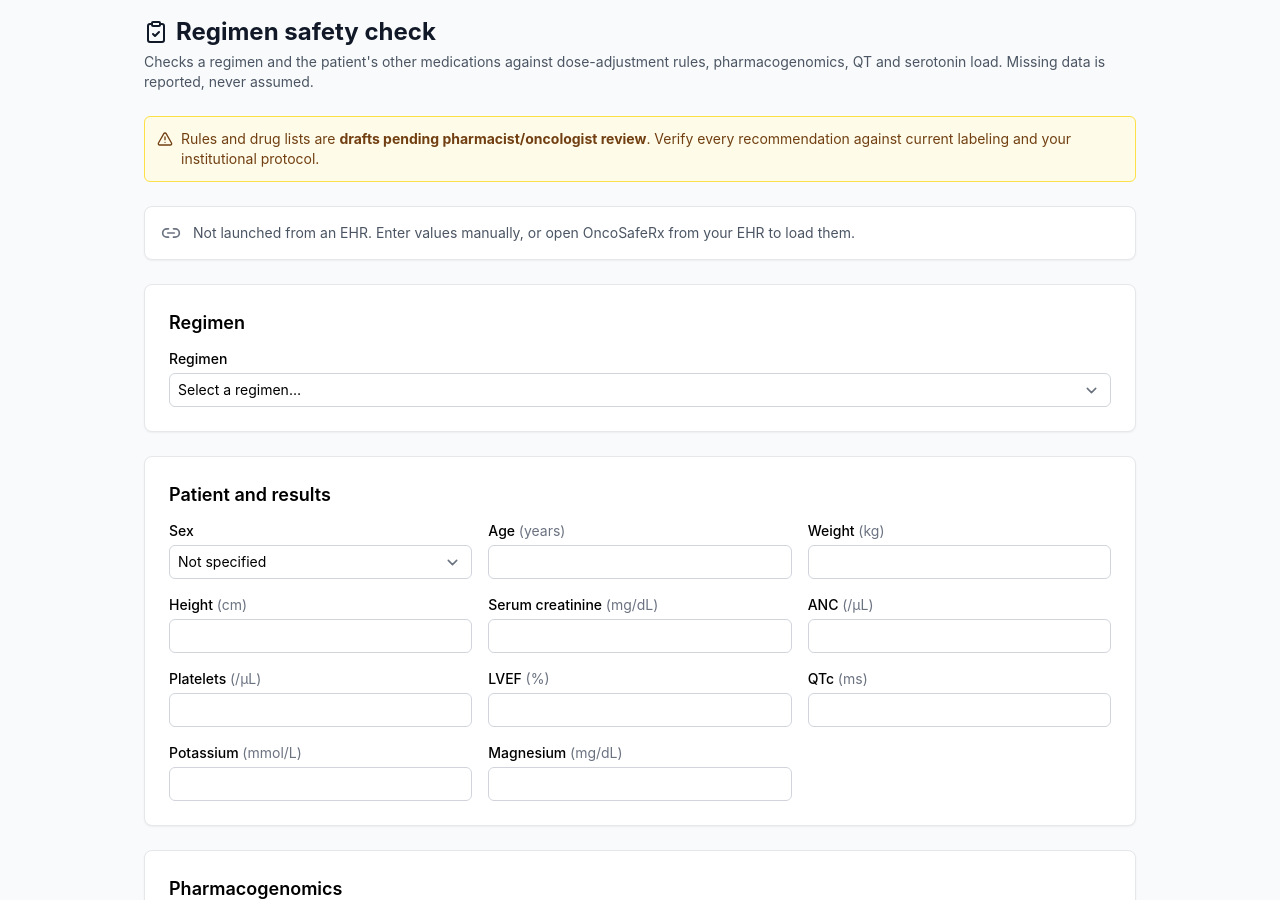
Test case: SafetyCheck page › override needs a reason; "other" needs a comment
Expected: the text "Not launched from an EHR" is shown, [193, 224, 855, 241]
Select "FOLFOX-6 — Colorectal cancer" in the dropdown labelled "Regimen" at coordinates (640, 390), box [169, 373, 1111, 407]
(page scrolled)
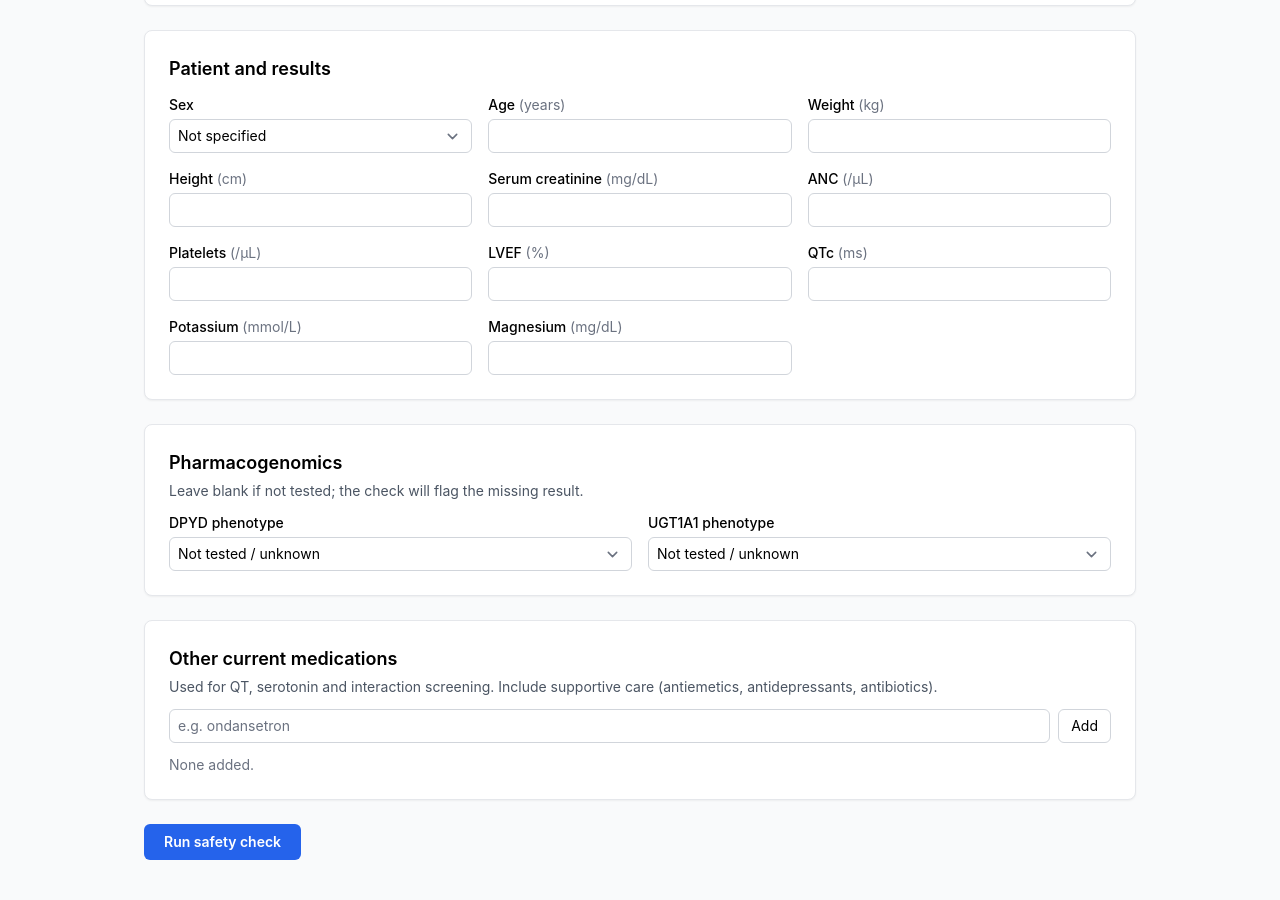
Click the button "Run safety check" at coordinates (223, 842), box [144, 824, 301, 860]
(page scrolled)
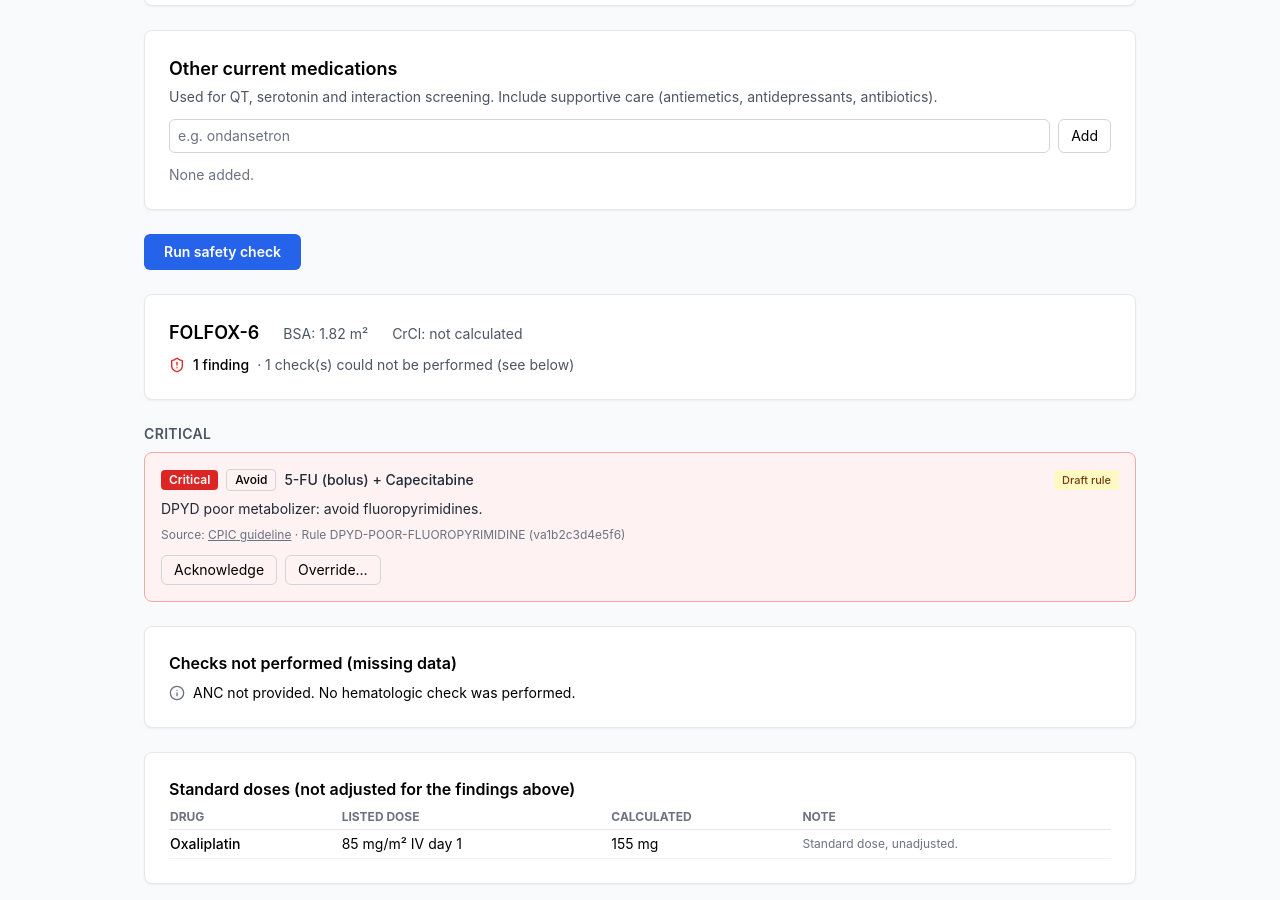
Now the element with test id "summary" is shown, box [169, 356, 574, 373]
Click the button "Override…" at coordinates (333, 570), box [285, 555, 381, 585]
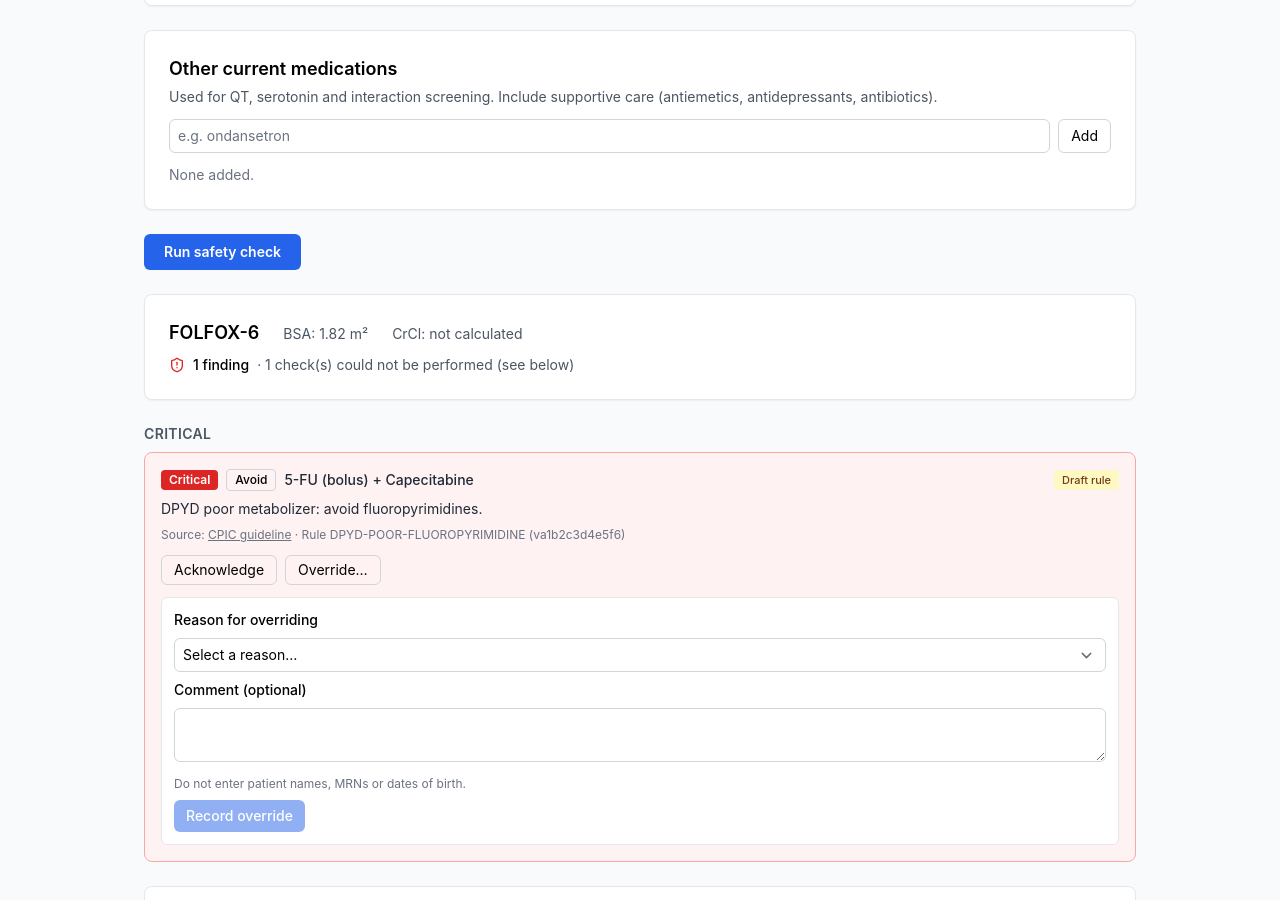
Now the button "Record override" is disabled, box [174, 800, 305, 832]
Select "Other (explain)" in the dropdown labelled "Reason for overriding" at coordinates (640, 655), box [174, 638, 1106, 672]
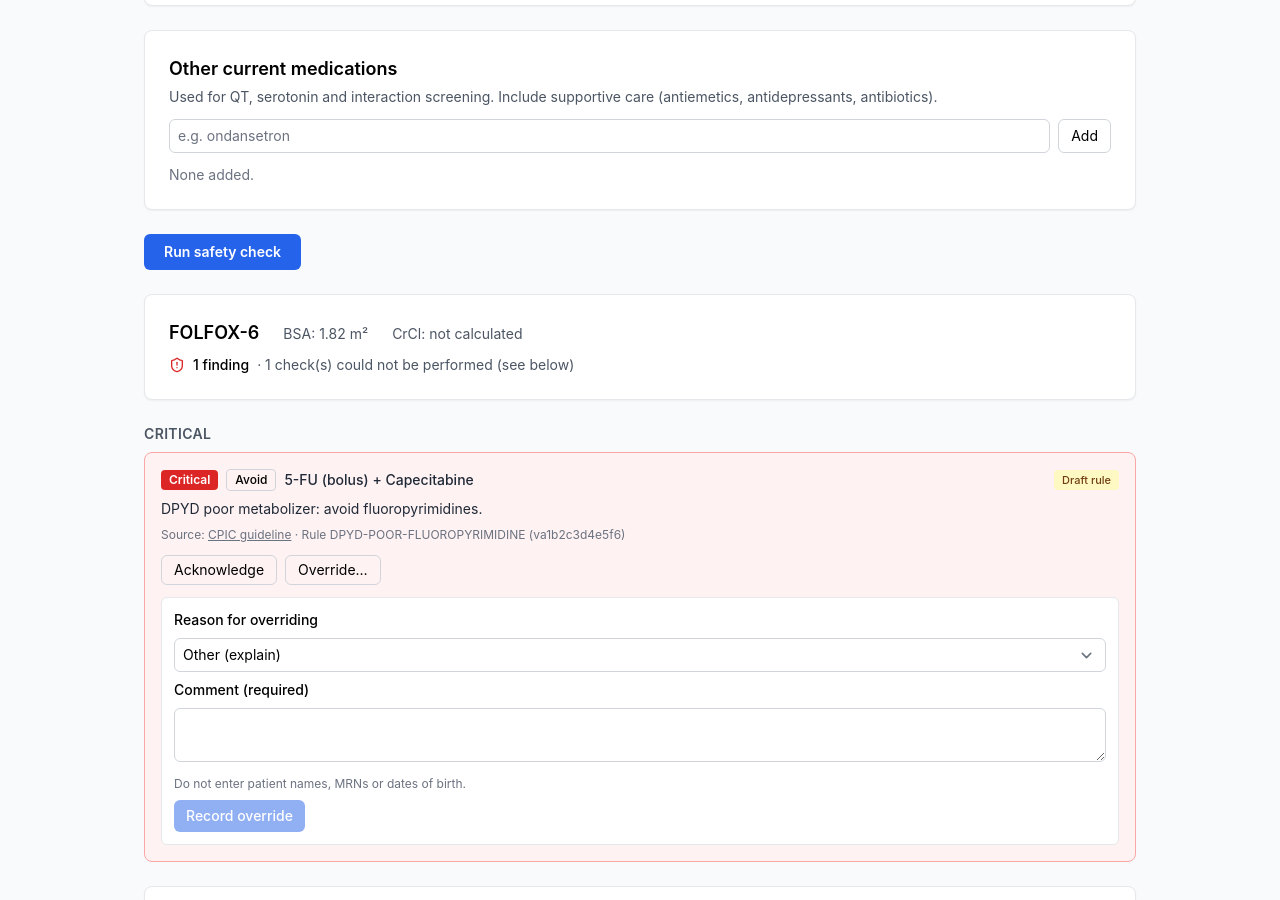
Now the button "Record override" is disabled, box [174, 800, 305, 832]
Type "palliative intent" into the text box labelled "Comment (required)" at coordinates (640, 735), box [174, 708, 1106, 762]
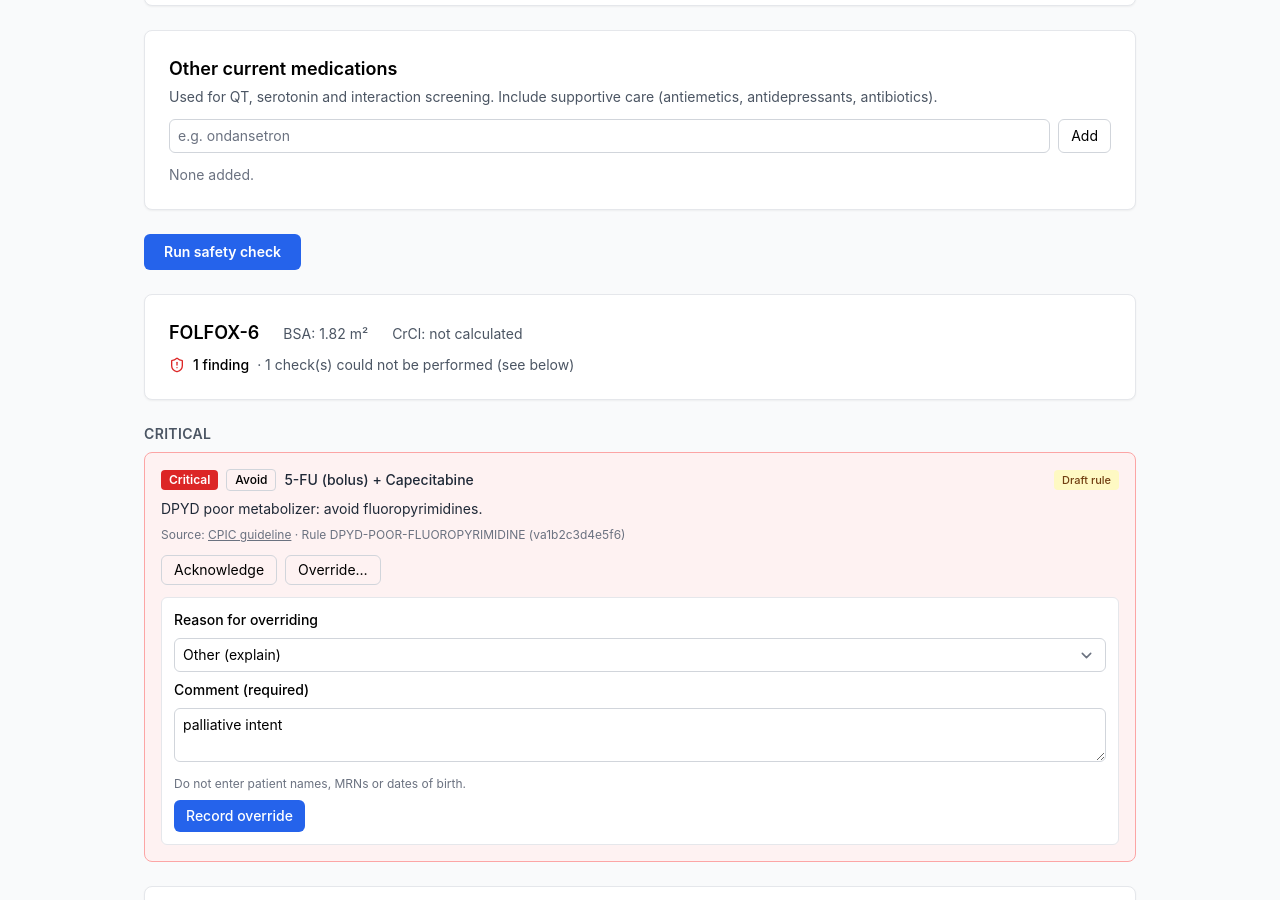
Now the button "Record override" is enabled
Click the button "Record override" at coordinates (239, 816), box [174, 800, 305, 832]
(page scrolled)
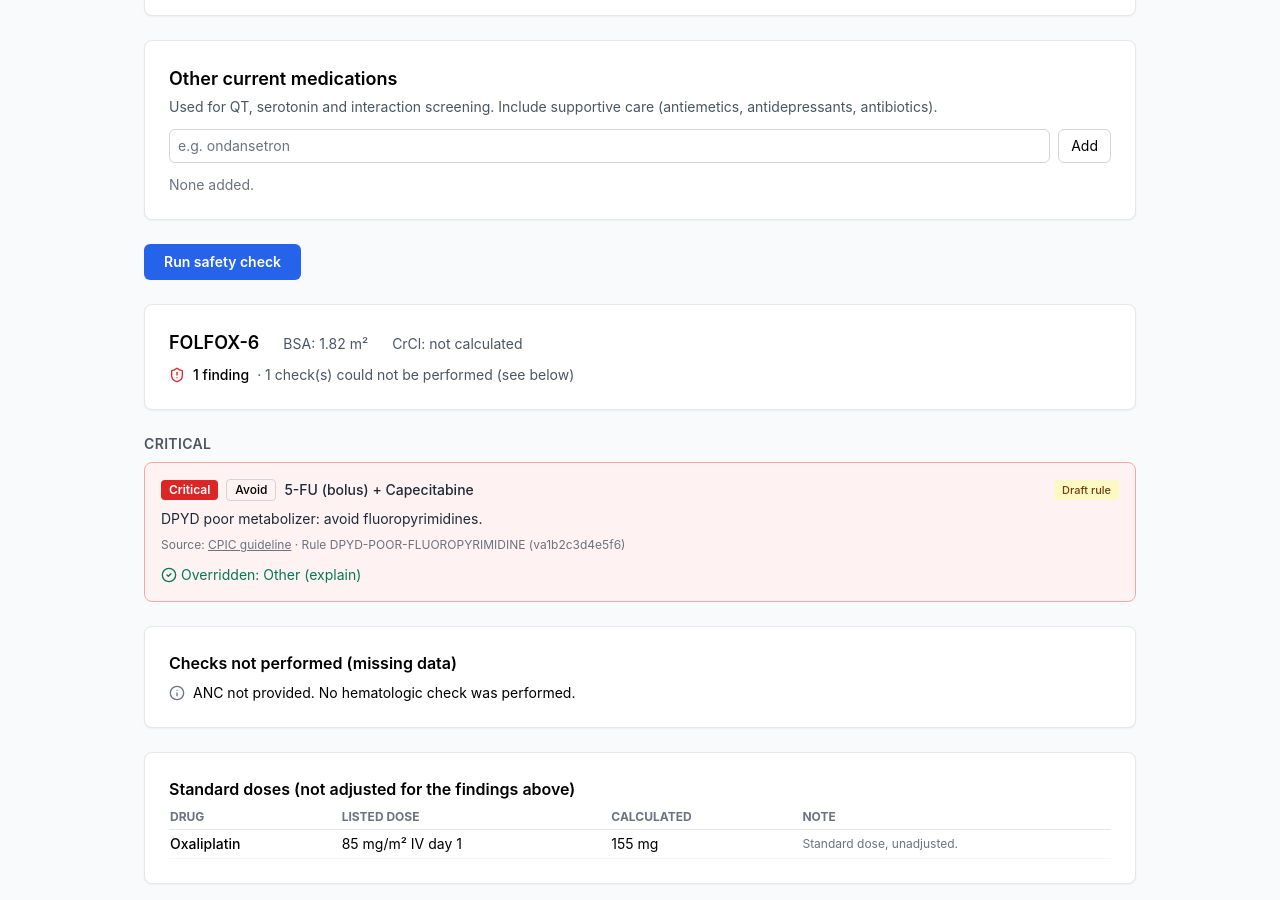
Now the text "Overridden: Other (explain)" is shown, box [161, 565, 361, 585]
